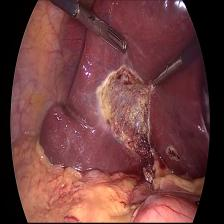Grasper: (74, 0, 134, 65), (148, 54, 184, 91)
